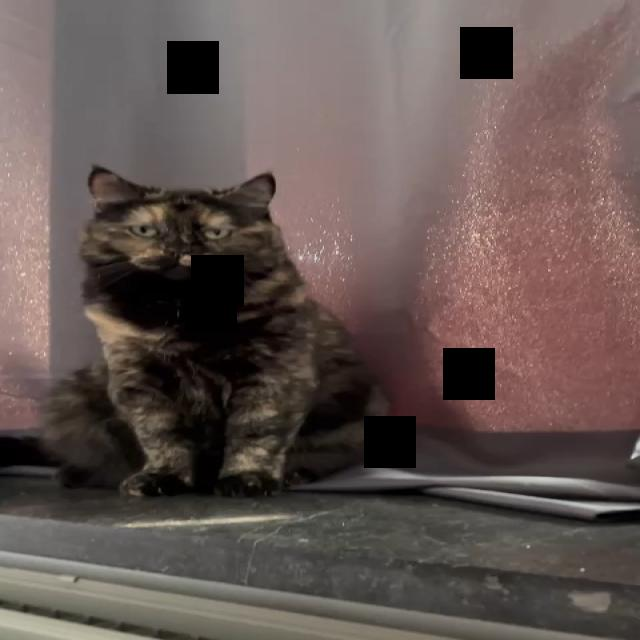authorized: (38, 163, 390, 498)
